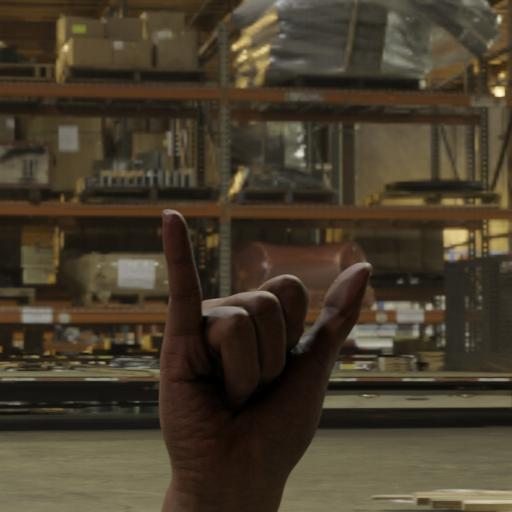Y: (123, 186, 386, 512)
